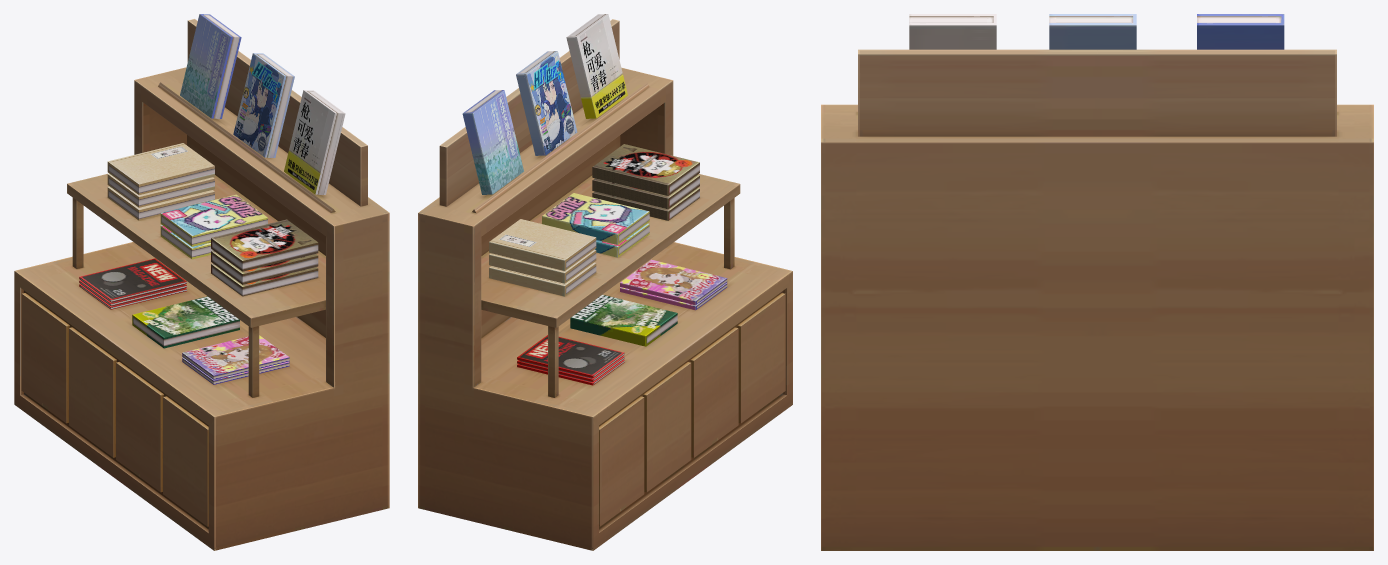
File: my_shoppingmall_01_bookstand_02.glb
3 renders of one model, left to right at view 1: azimuth 30°, elevation 25°; view 2: azimuth 150°, elevation 25°; view 3: azimuth 270°, elevation 25°, orthographic. The views are drawn at different scales.
Parts seen in each view (by area): view 1: my_shoppingmall_01_bookstand_02; view 2: my_shoppingmall_01_bookstand_02; view 3: my_shoppingmall_01_bookstand_02.
Boxes of the visible parts, <box> form: my_shoppingmall_01_bookstand_02: <box>14,14,389,550</box>; my_shoppingmall_01_bookstand_02: <box>418,14,792,550</box>; my_shoppingmall_01_bookstand_02: <box>821,14,1373,550</box>.
Size of the model in its own units: 0.00526 by 0.0108 by 0.0104.
1 material, 1 textured.
